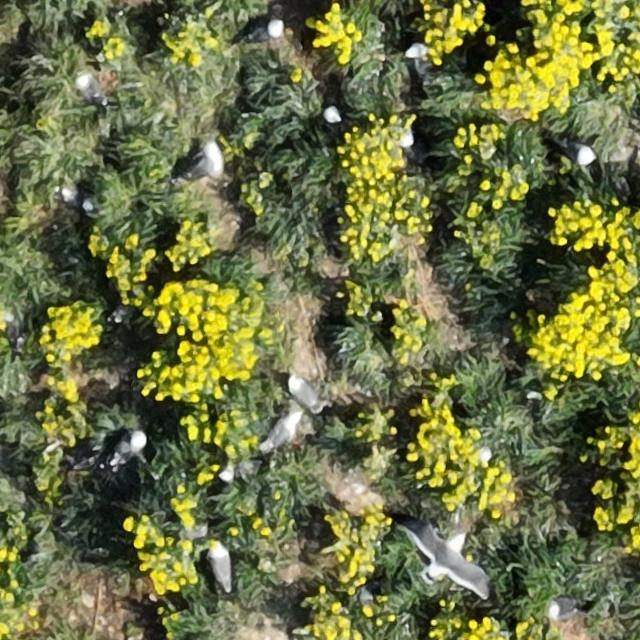F: (412, 522, 486, 594)
umineko: (181, 141, 220, 191), (266, 412, 302, 452), (110, 432, 146, 463), (290, 380, 320, 411), (212, 546, 232, 590), (564, 142, 595, 166), (248, 19, 283, 40), (60, 188, 90, 212), (77, 77, 104, 102), (547, 597, 577, 618), (324, 106, 343, 126)
